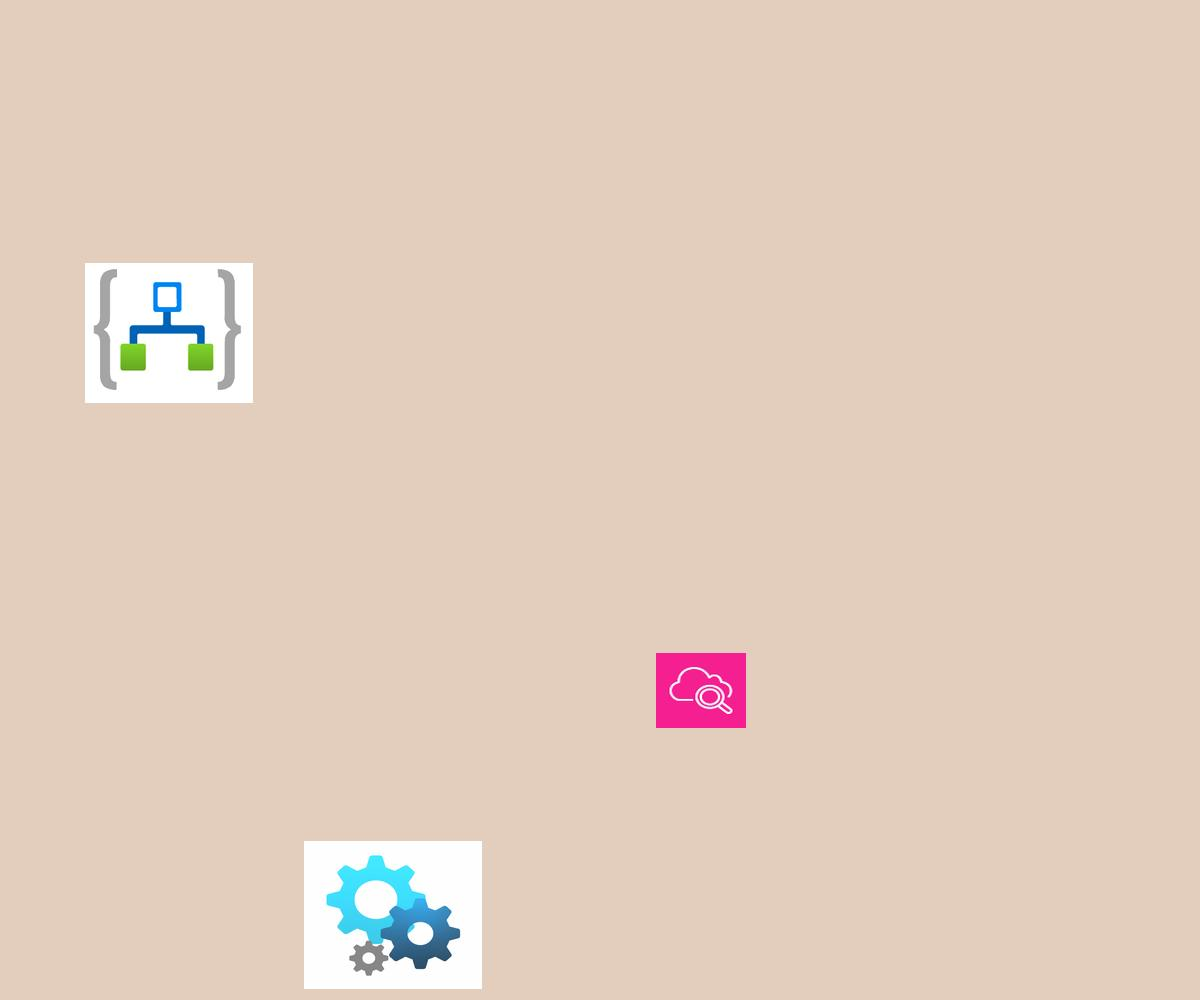AWS-CloudWatch: (656, 653, 746, 728)
Azure_api: (304, 841, 482, 989)
Azure_integration-204-Logic-Apps: (85, 263, 253, 403)
